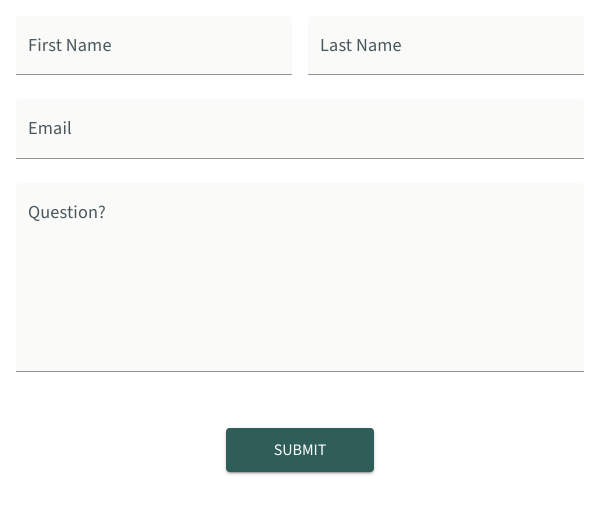
it: when Formspree is configured › rejects a malformed email
In the field labelled "First Name": [154, 46] box [16,16,292,75], type "James"
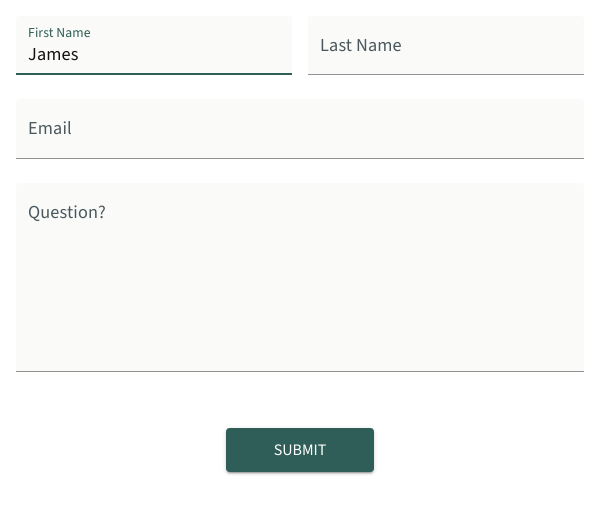
In the field labelled "Last Name": [446, 46] box [308,16,584,75], type "Hurley"
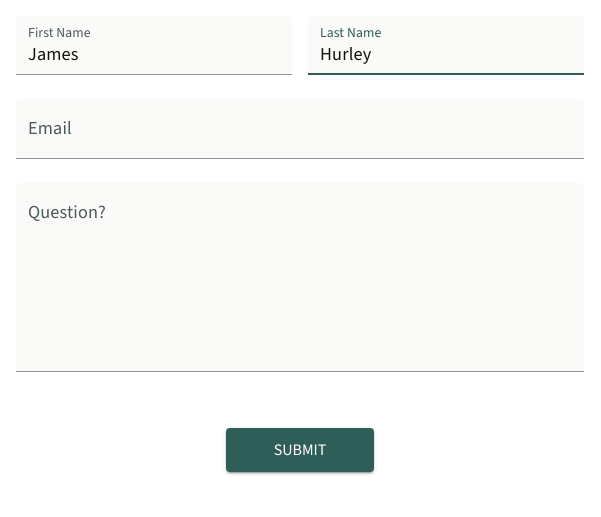
In the field labelled "Email": [300, 129] box [16,99,584,159], type "james@example.com"
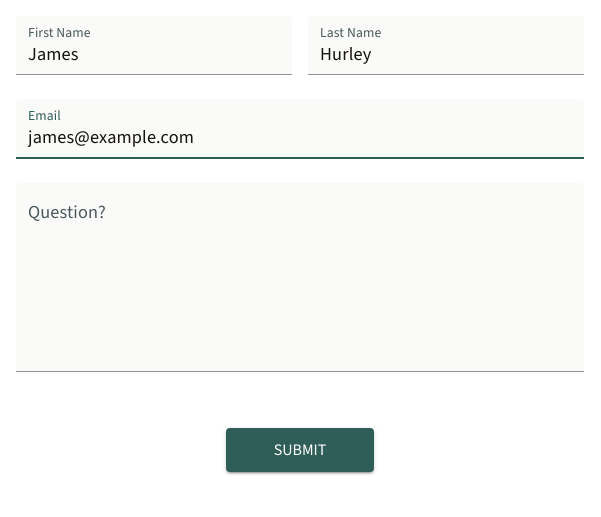
In the text box labelled "Question?": [300, 286] box [28,208,572,364], type "This message is comfortably longer than twenty characters."
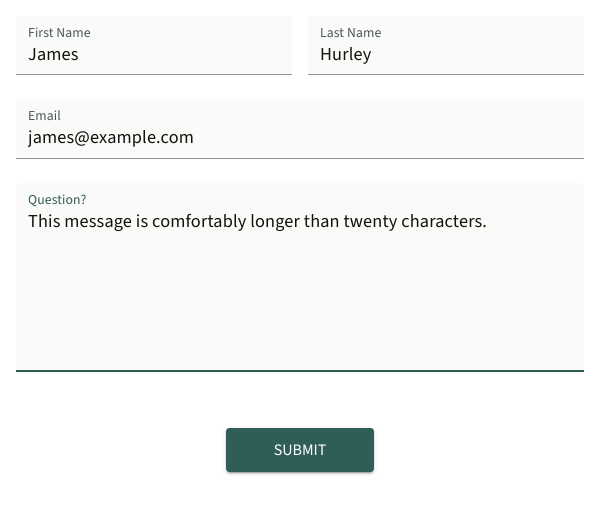
Replace the text in the field labelled "Email" with "not-an-email": [300, 129] box [16,99,584,159]
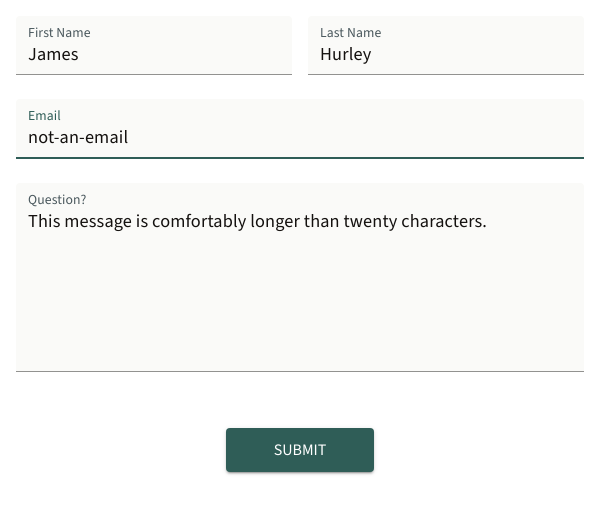
Click the button "Submit": [300, 450] box [226,428,374,472]
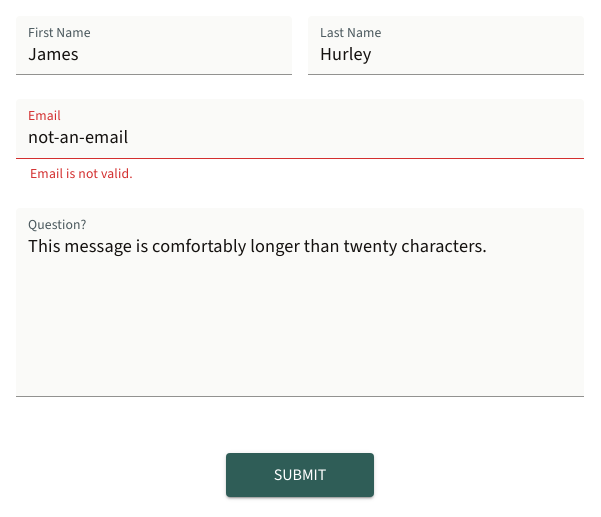
Check: the text "Email is not valid." is shown, box [30,164,133,182]
